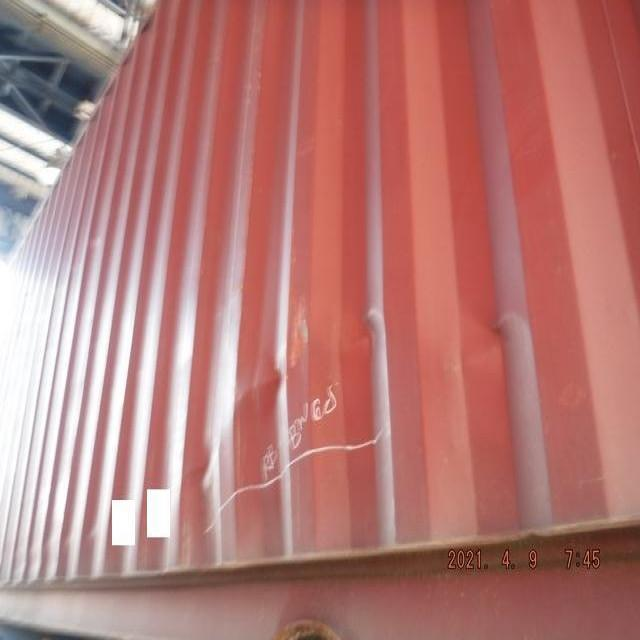dent: (174, 298, 402, 524), (441, 280, 561, 406)
